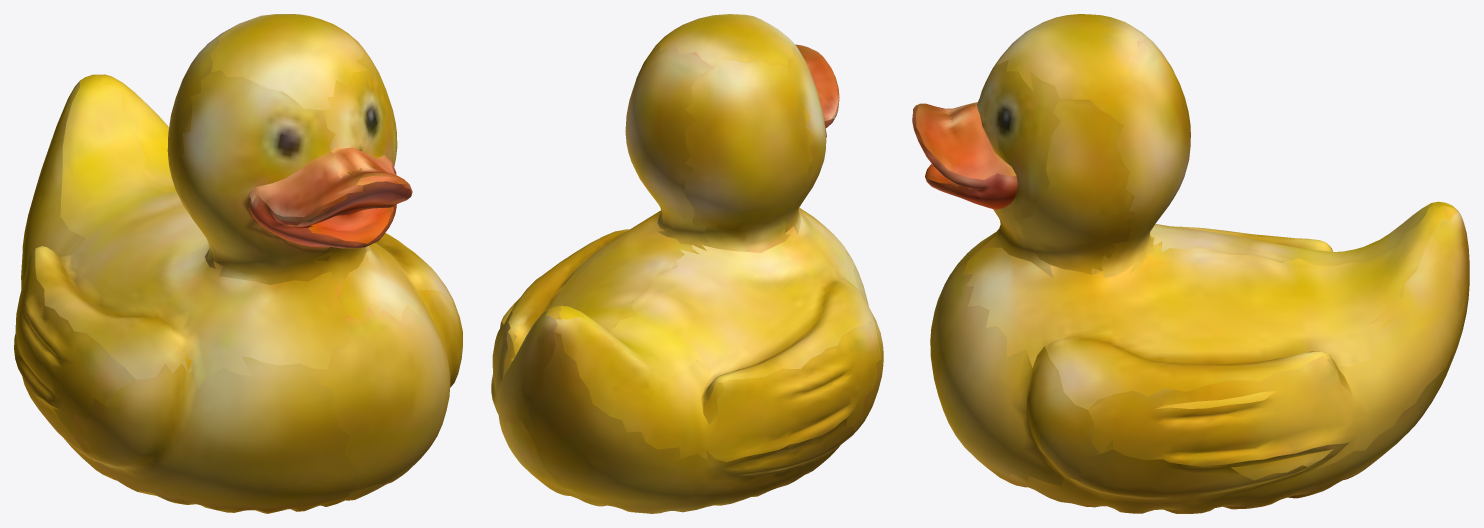
File: duck.glb
3 views of the same model, side by side, from view 1: azimuth 30°, elevation 25°; view 2: azimuth 150°, elevation 25°; view 3: azimuth 270°, elevation 25° (orthographic). The views are drawn at different scales.
Visible parts, largest first — view 1: geometry_0; view 2: geometry_0; view 3: geometry_0.
Boxes of the visible parts, x1,y1,x2,y2 form: geometry_0: (14, 14, 462, 513); geometry_0: (491, 14, 883, 513); geometry_0: (912, 14, 1469, 513).
Size of the model in its own units: 0.11 by 0.1259 by 0.1487.
1 material, 1 textured.
